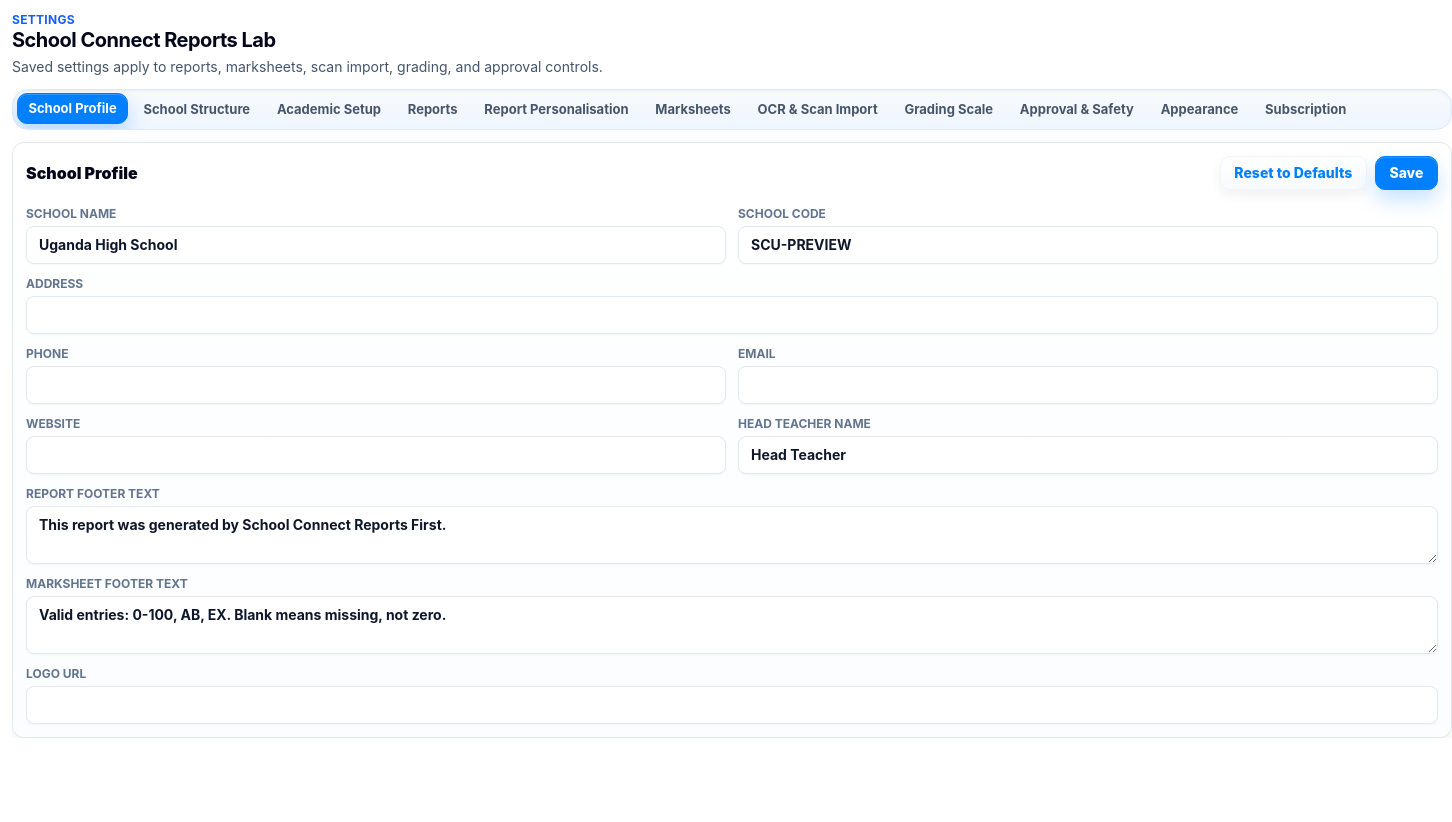
Test: SettingsPage › shows inline field errors for invalid school profile values
Type "bad-email" into the field labelled "Email" at (1088, 385), box top-left (738, 366), bottom-right (1438, 404)
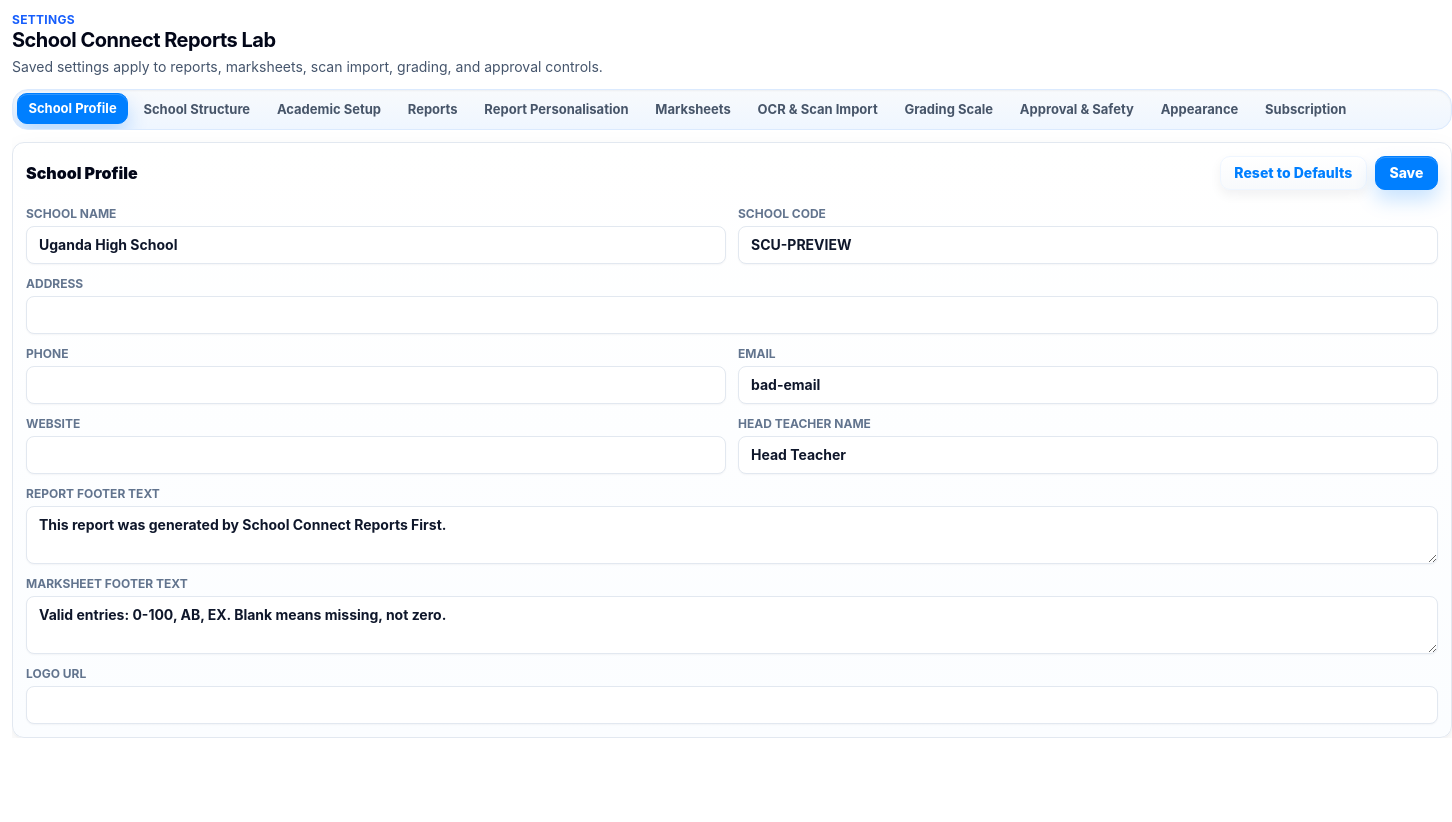
Click the button "Save" at (1406, 173), box top-left (1375, 156), bottom-right (1438, 190)
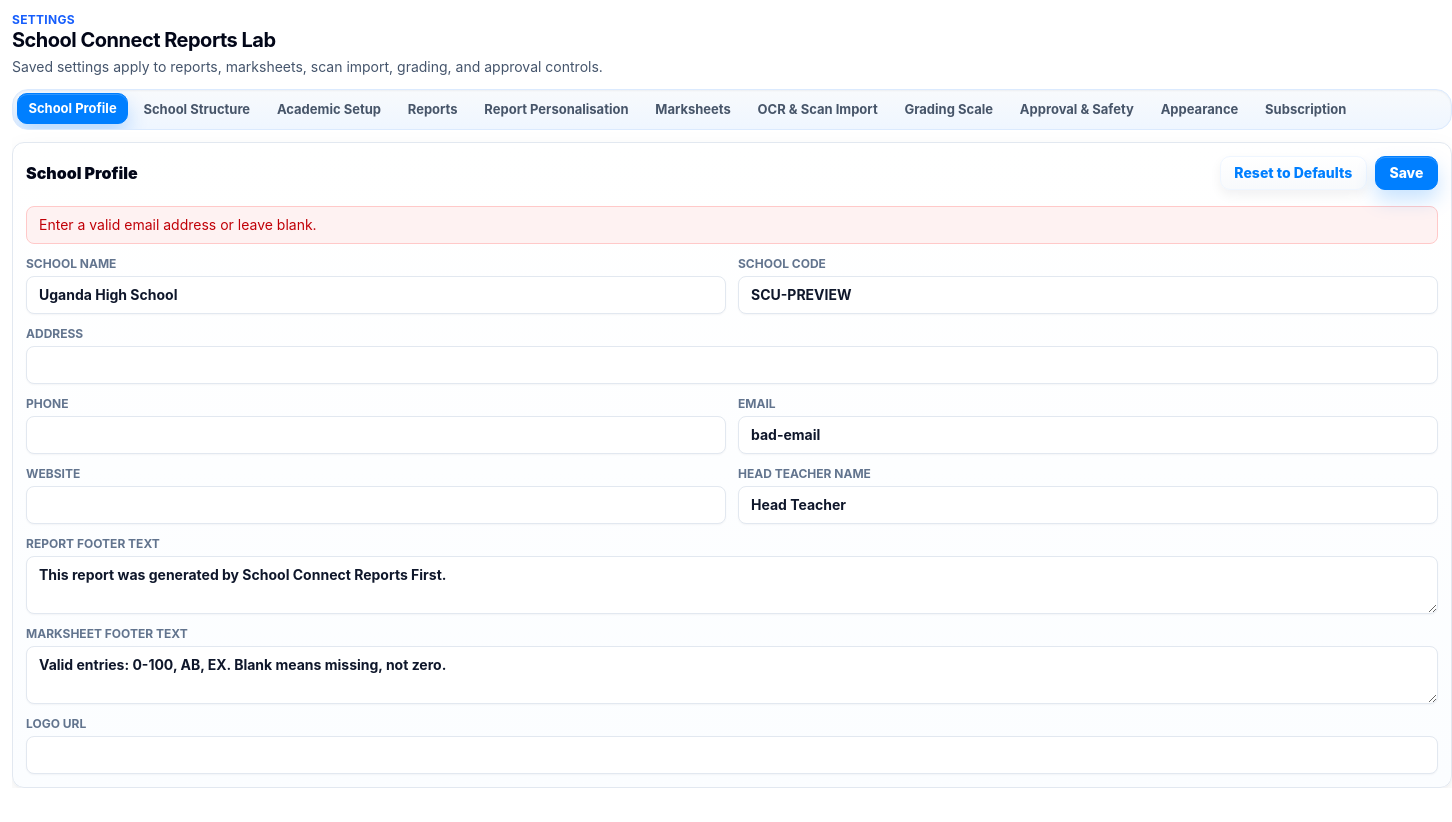
Expected: the text "Enter a valid email address or leave blank." is shown, top-left (26, 206), bottom-right (1438, 244)
